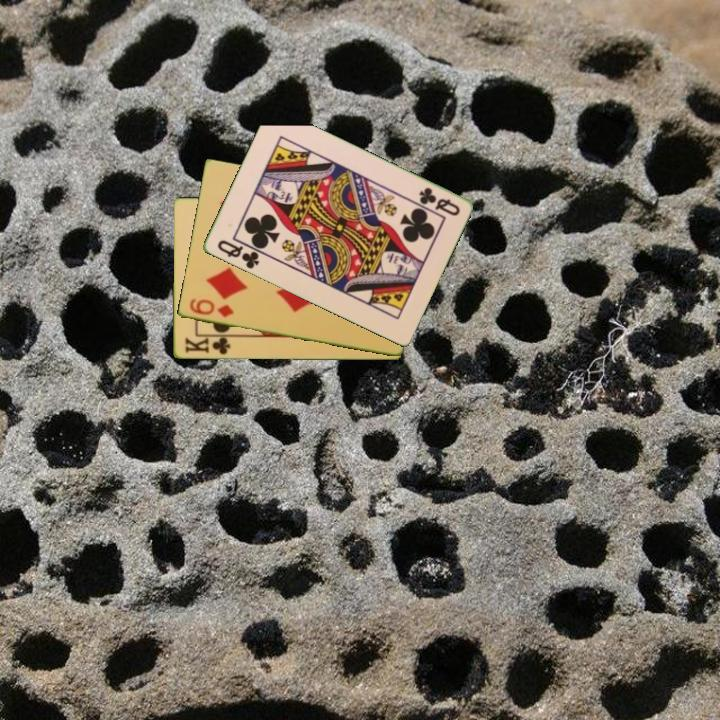6d: (186, 295, 236, 321)
Kc: (181, 333, 235, 358)
Qc: (213, 236, 262, 272), (415, 184, 463, 219)
